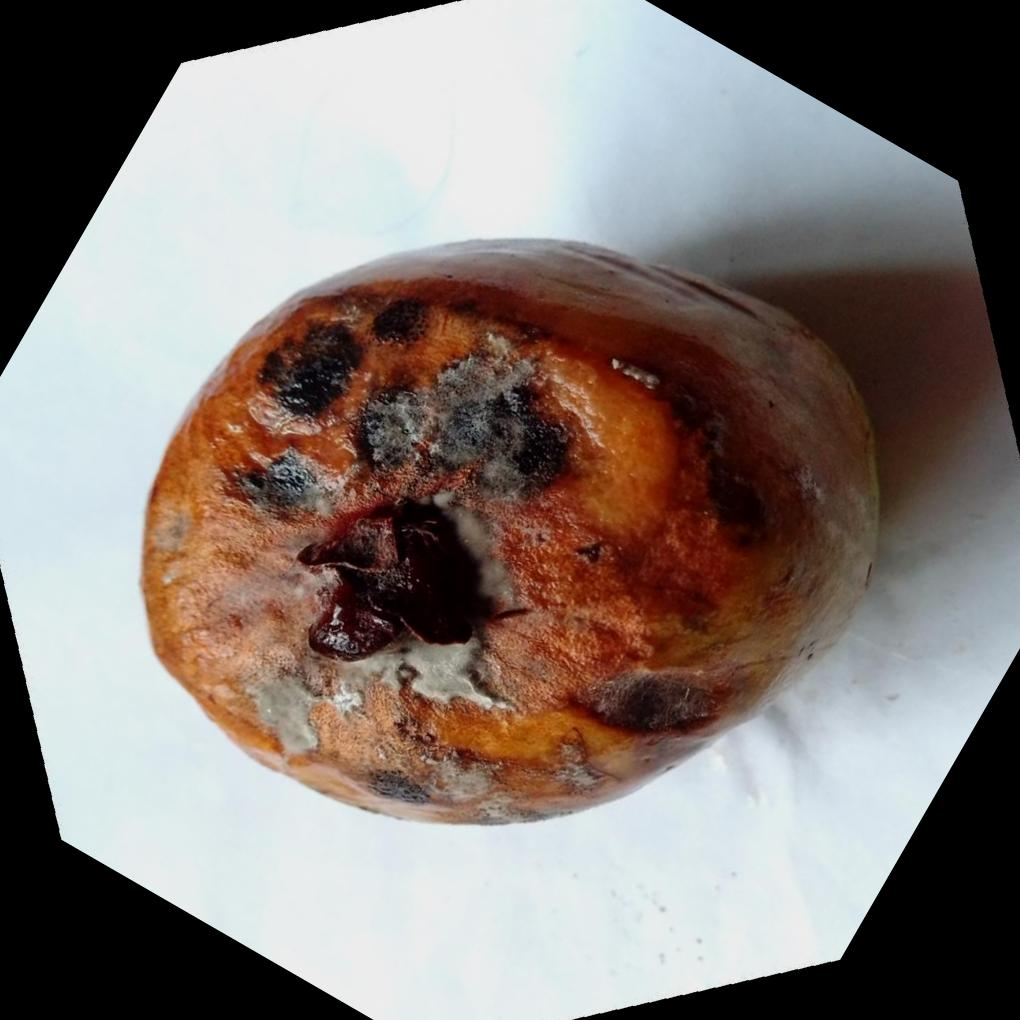FreshOrange: (138, 233, 886, 825)
